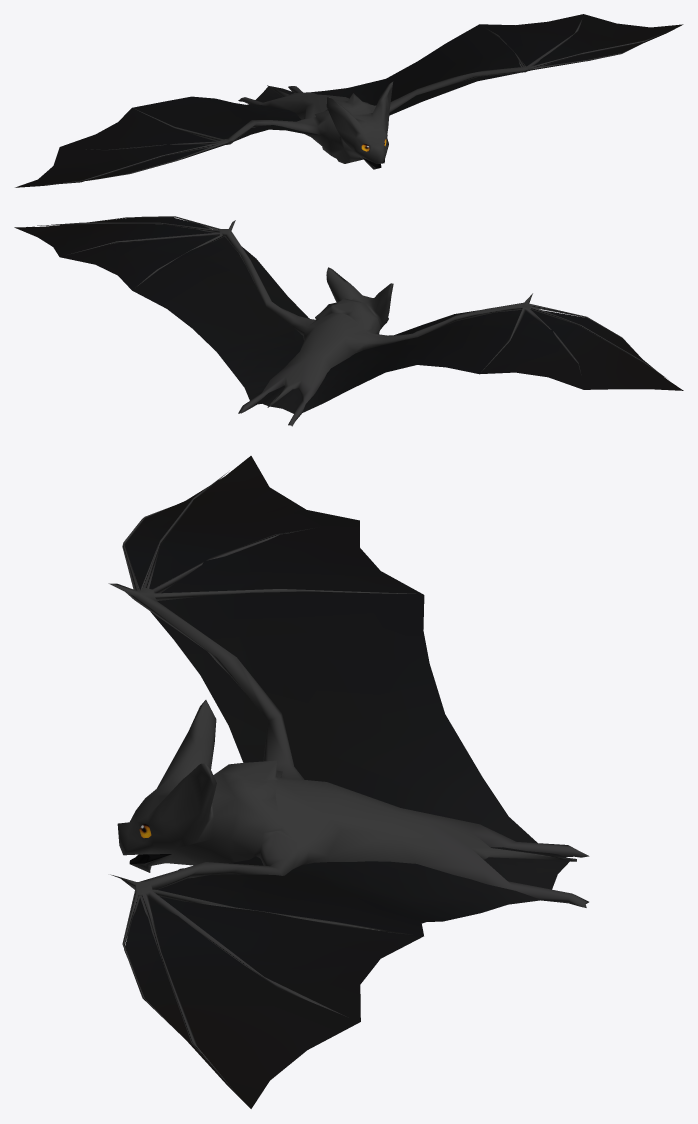
3 views of the same model, one above another, from view 1: azimuth 30°, elevation 25°; view 2: azimuth 150°, elevation 25°; view 3: azimuth 270°, elevation 25° (orthographic). The views are drawn at different scales.
Visible parts, largest first — view 1: Bat; view 2: Bat; view 3: Bat.
Part boxes in pixels (<box>): Bat: <box>15,14,683,187</box>; Bat: <box>14,216,683,426</box>; Bat: <box>108,456,589,1108</box>.
Size of what is drawn, in the model's own units: 1.11 by 0.1282 by 0.3443.
1 material, 1 textured.
